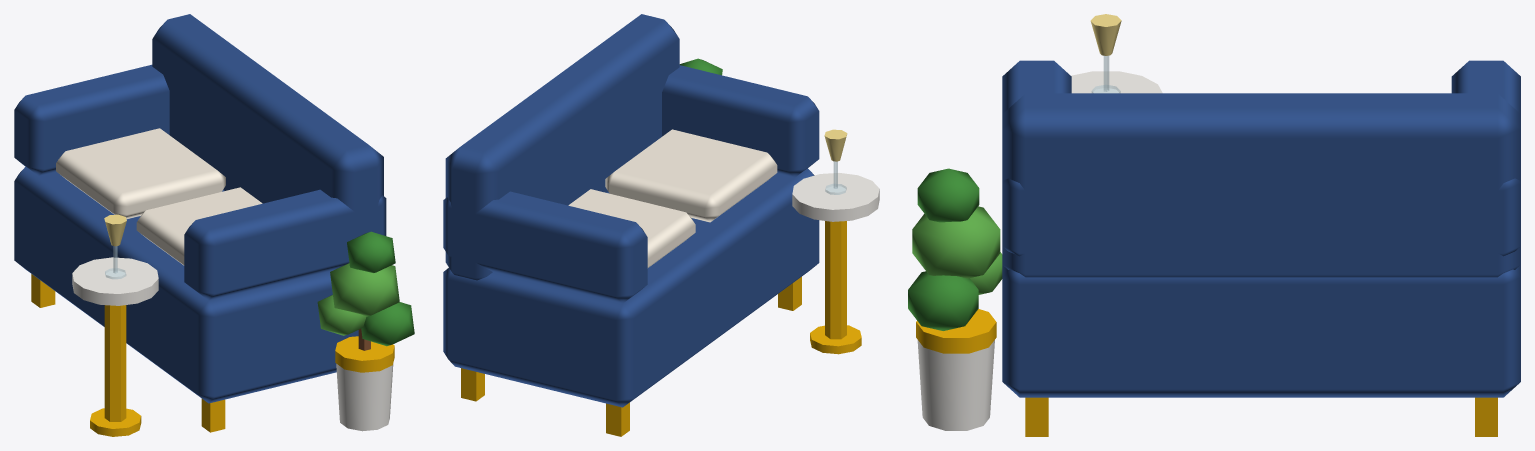
File: station_special_ausstattung_3_2.glb
3 views of the same model, side by side, from view 1: azimuth 30°, elevation 25°; view 2: azimuth 150°, elevation 25°; view 3: azimuth 270°, elevation 25° (orthographic). The views are drawn at different scales.
Visible parts, largest first — view 1: station_special_ausstattung_3_2; view 2: station_special_ausstattung_3_2; view 3: station_special_ausstattung_3_2.
Boxes of the visible parts, x1,y1,x2,y2 form: station_special_ausstattung_3_2: (14,14,414,436); station_special_ausstattung_3_2: (443,14,879,436); station_special_ausstattung_3_2: (908,14,1520,436).
Size of the model in its own units: 0.7275 by 0.63 by 1.06.
